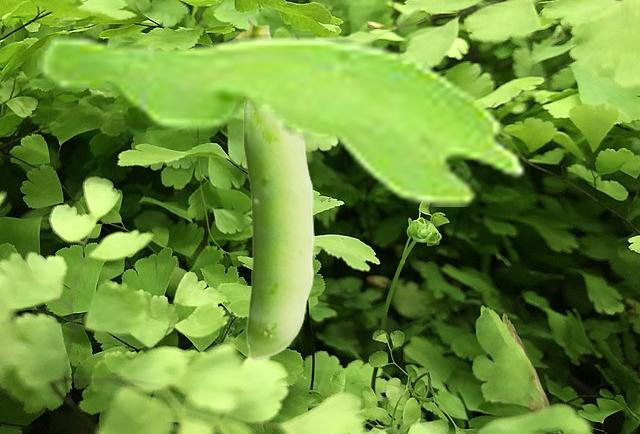pea: (233, 15, 313, 360)
